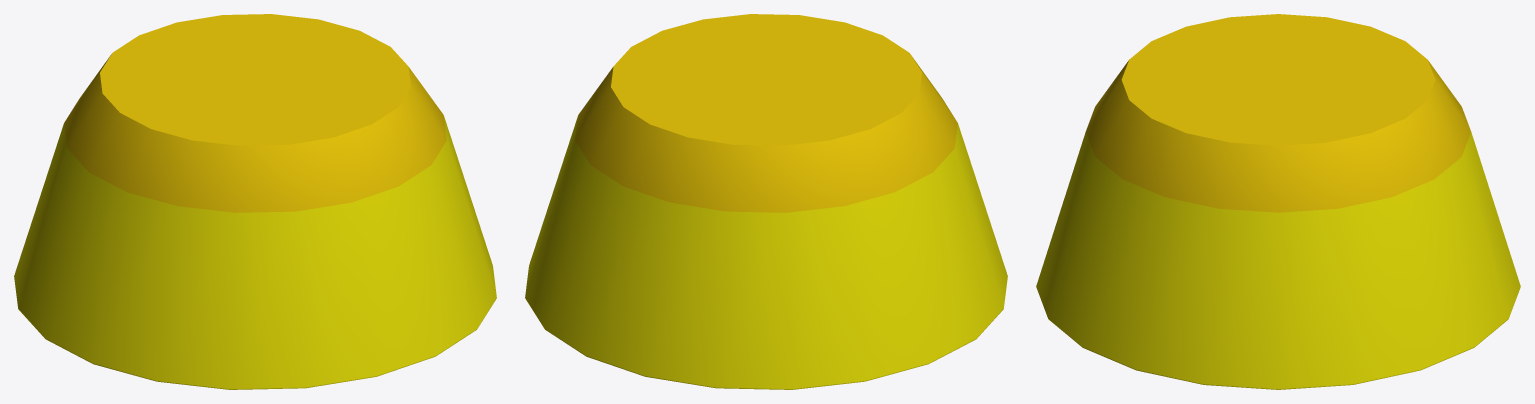
The model's file is CandyDot.fbx.
The picture shows the model from 3 angles, left to right: view 1: azimuth 30°, elevation 25°; view 2: azimuth 150°, elevation 25°; view 3: azimuth 270°, elevation 25°; orthographic projection.
Parts seen in each view (by area): view 1: Candy_Dot; view 2: Candy_Dot; view 3: Candy_Dot.
Part boxes in pixels (x1,y1,x2,y2): Candy_Dot: (14,14,496,389); Candy_Dot: (525,14,1007,389); Candy_Dot: (1036,14,1520,389).
Bounding box in the file's own units: 2.64 × 1.25 × 2.64.
